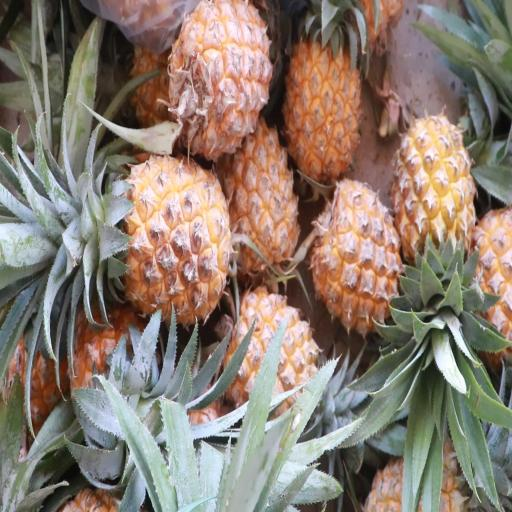Pineapple - v8 v1: (64, 149, 234, 327), (219, 280, 332, 438), (166, 0, 275, 163), (390, 107, 479, 303), (307, 166, 409, 336), (279, 11, 362, 195), (222, 106, 302, 282)
